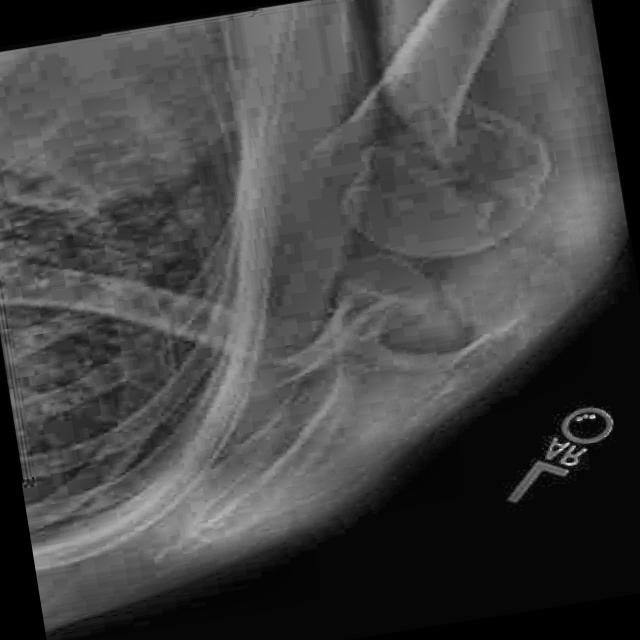shoulder fracture: (381, 61, 535, 198)
